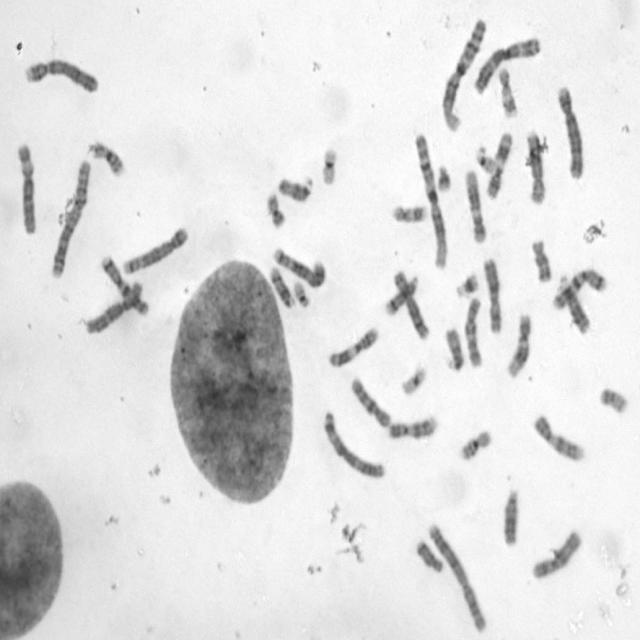A1: (442, 18, 488, 131), (414, 134, 448, 270)
A2: (428, 522, 488, 632), (50, 159, 91, 278)
A3: (323, 410, 385, 479), (474, 36, 540, 94)
B4: (558, 87, 586, 181), (23, 58, 98, 93)
B5: (122, 227, 188, 276), (273, 246, 325, 288)
C10: (351, 376, 391, 428), (463, 297, 482, 368)
C11: (328, 328, 379, 368), (486, 130, 514, 200)
C12: (506, 313, 532, 378), (464, 168, 486, 244)
C6: (86, 280, 143, 334), (16, 144, 37, 235)
C7: (100, 254, 149, 316), (551, 268, 608, 310)
C8: (393, 270, 430, 339), (526, 131, 546, 204)
C9: (533, 414, 585, 461), (388, 415, 438, 440)
D13: (560, 274, 590, 334), (502, 489, 518, 546)
D14: (384, 273, 418, 316), (269, 266, 295, 310)
D15: (278, 175, 314, 201), (444, 328, 464, 372)
E16: (93, 140, 124, 177), (460, 429, 492, 461)
E17: (497, 66, 518, 118), (391, 204, 427, 223)
E18: (415, 540, 444, 574), (531, 238, 552, 284)
F19: (401, 366, 427, 396), (322, 147, 336, 186)
F20: (599, 386, 629, 414), (266, 192, 286, 229)
G21: (455, 274, 479, 298), (436, 165, 452, 191)
G22: (475, 144, 496, 174), (292, 280, 310, 308)
X: (532, 530, 582, 579), (482, 257, 502, 333)
